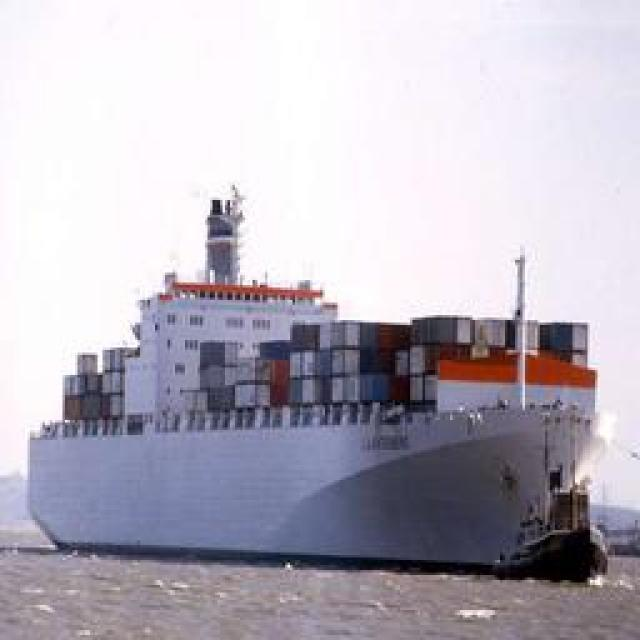CIV_Ship: (22, 174, 616, 576)
